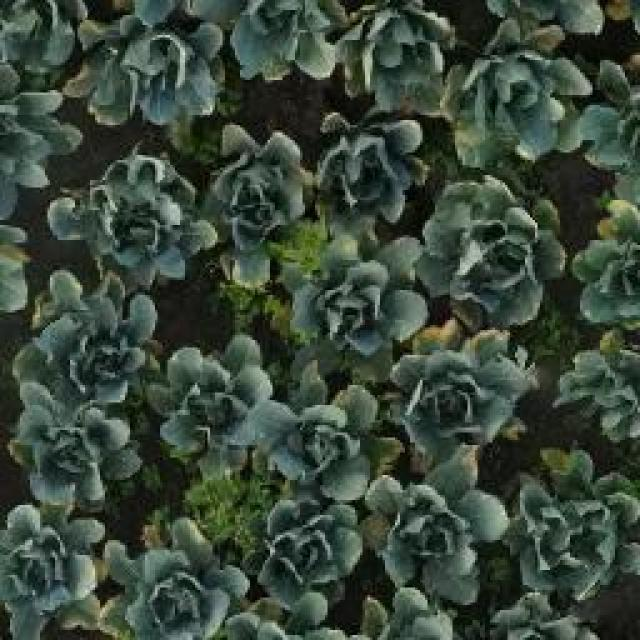cabbage: (420, 171, 562, 323), (51, 152, 210, 284), (366, 451, 510, 594), (97, 517, 250, 640), (386, 330, 534, 456), (513, 451, 640, 597), (284, 230, 428, 354), (455, 26, 586, 162), (24, 277, 162, 404), (78, 3, 220, 118), (150, 334, 277, 460), (260, 365, 378, 496), (8, 388, 143, 500), (0, 506, 109, 640), (203, 122, 315, 240), (310, 110, 424, 222), (342, 0, 455, 98), (225, 0, 345, 88), (262, 496, 366, 590)
